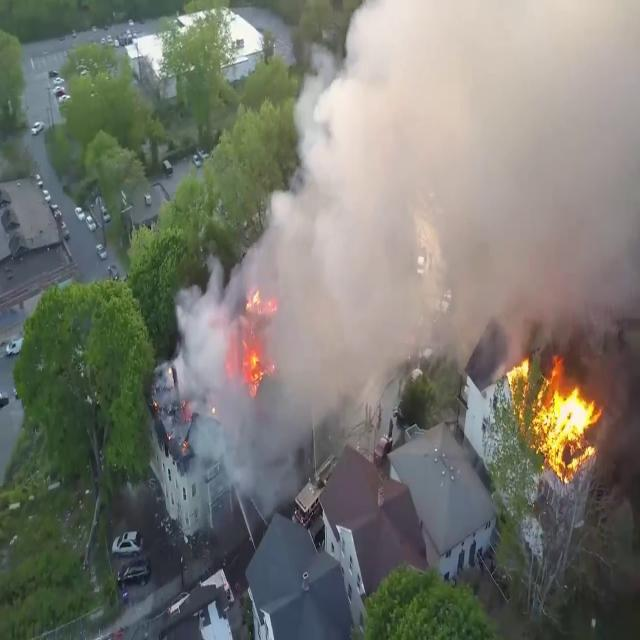Fire: (501, 348, 605, 478)
Smoke: (169, 0, 640, 496)
